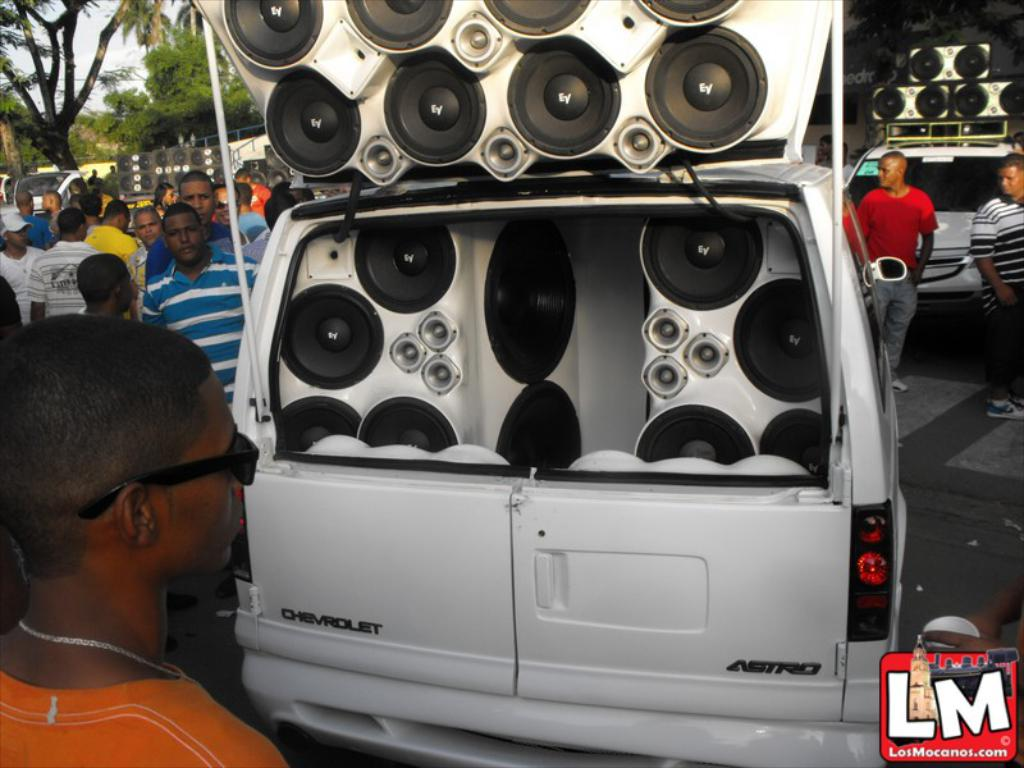Car: (843, 134, 1022, 309)
